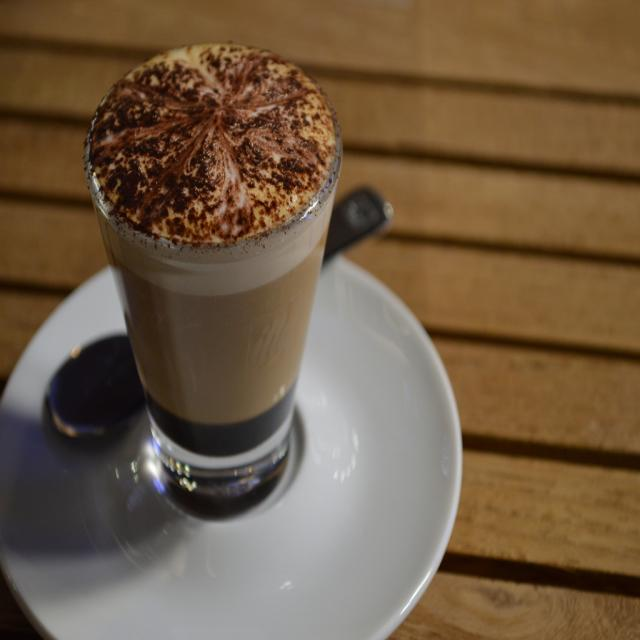Coffee: (88, 42, 342, 429)
